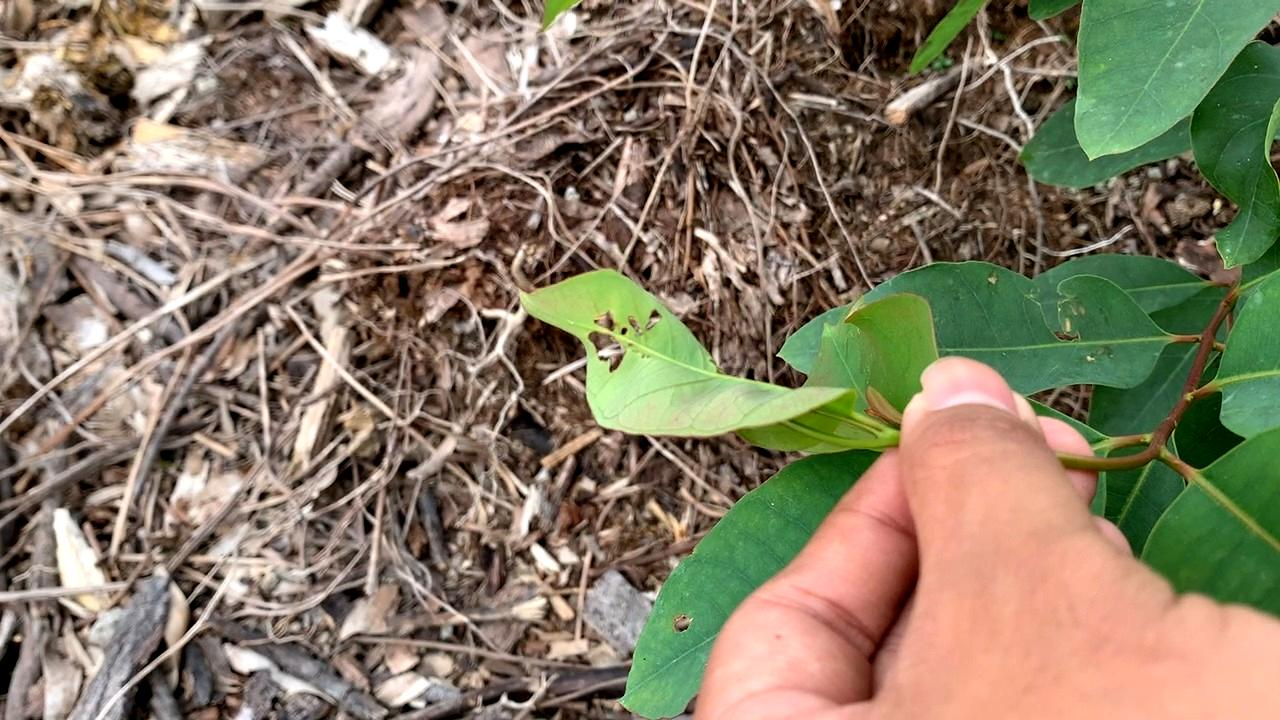Leaf Roller - Leaf: (531, 273, 857, 483)
